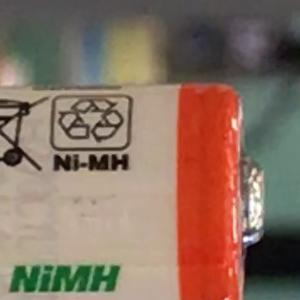keyword: (43, 144, 139, 181)
